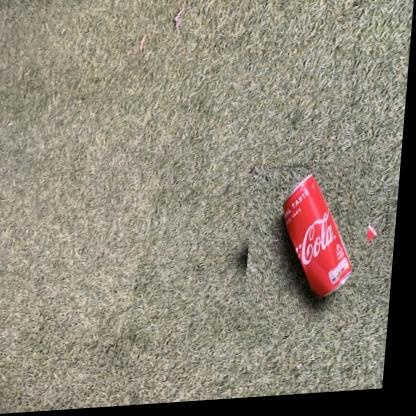trash: (283, 175, 351, 296)
